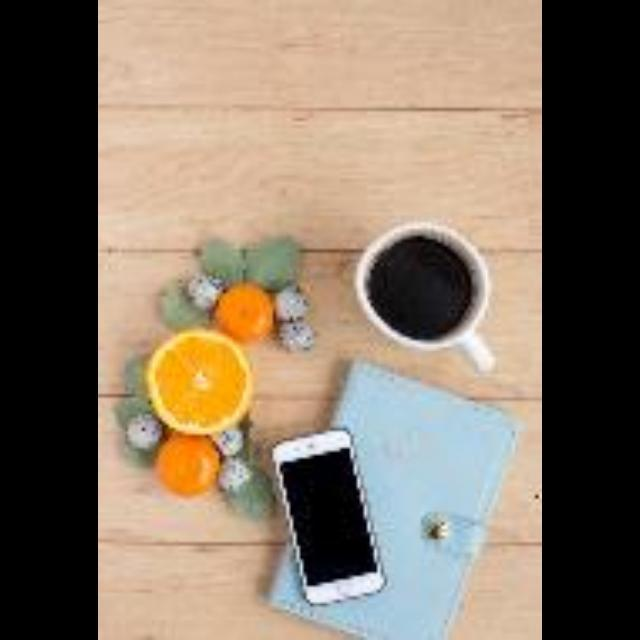PhoneUse: (273, 426, 387, 604)
